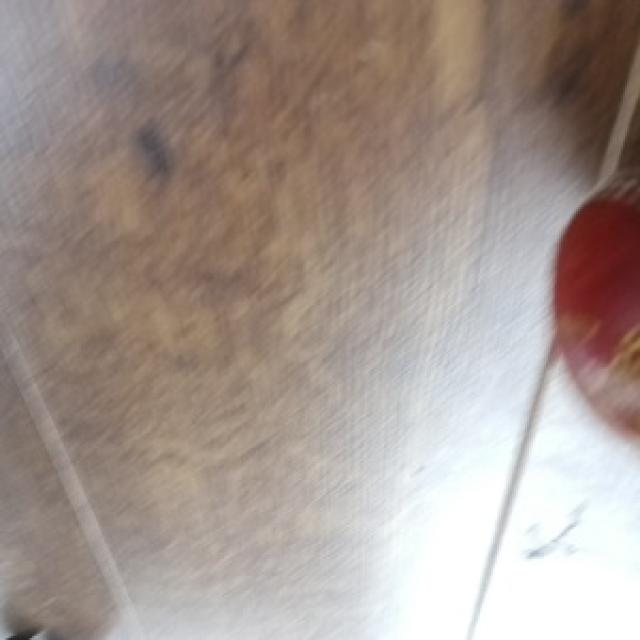ball: (553, 117, 640, 454)
